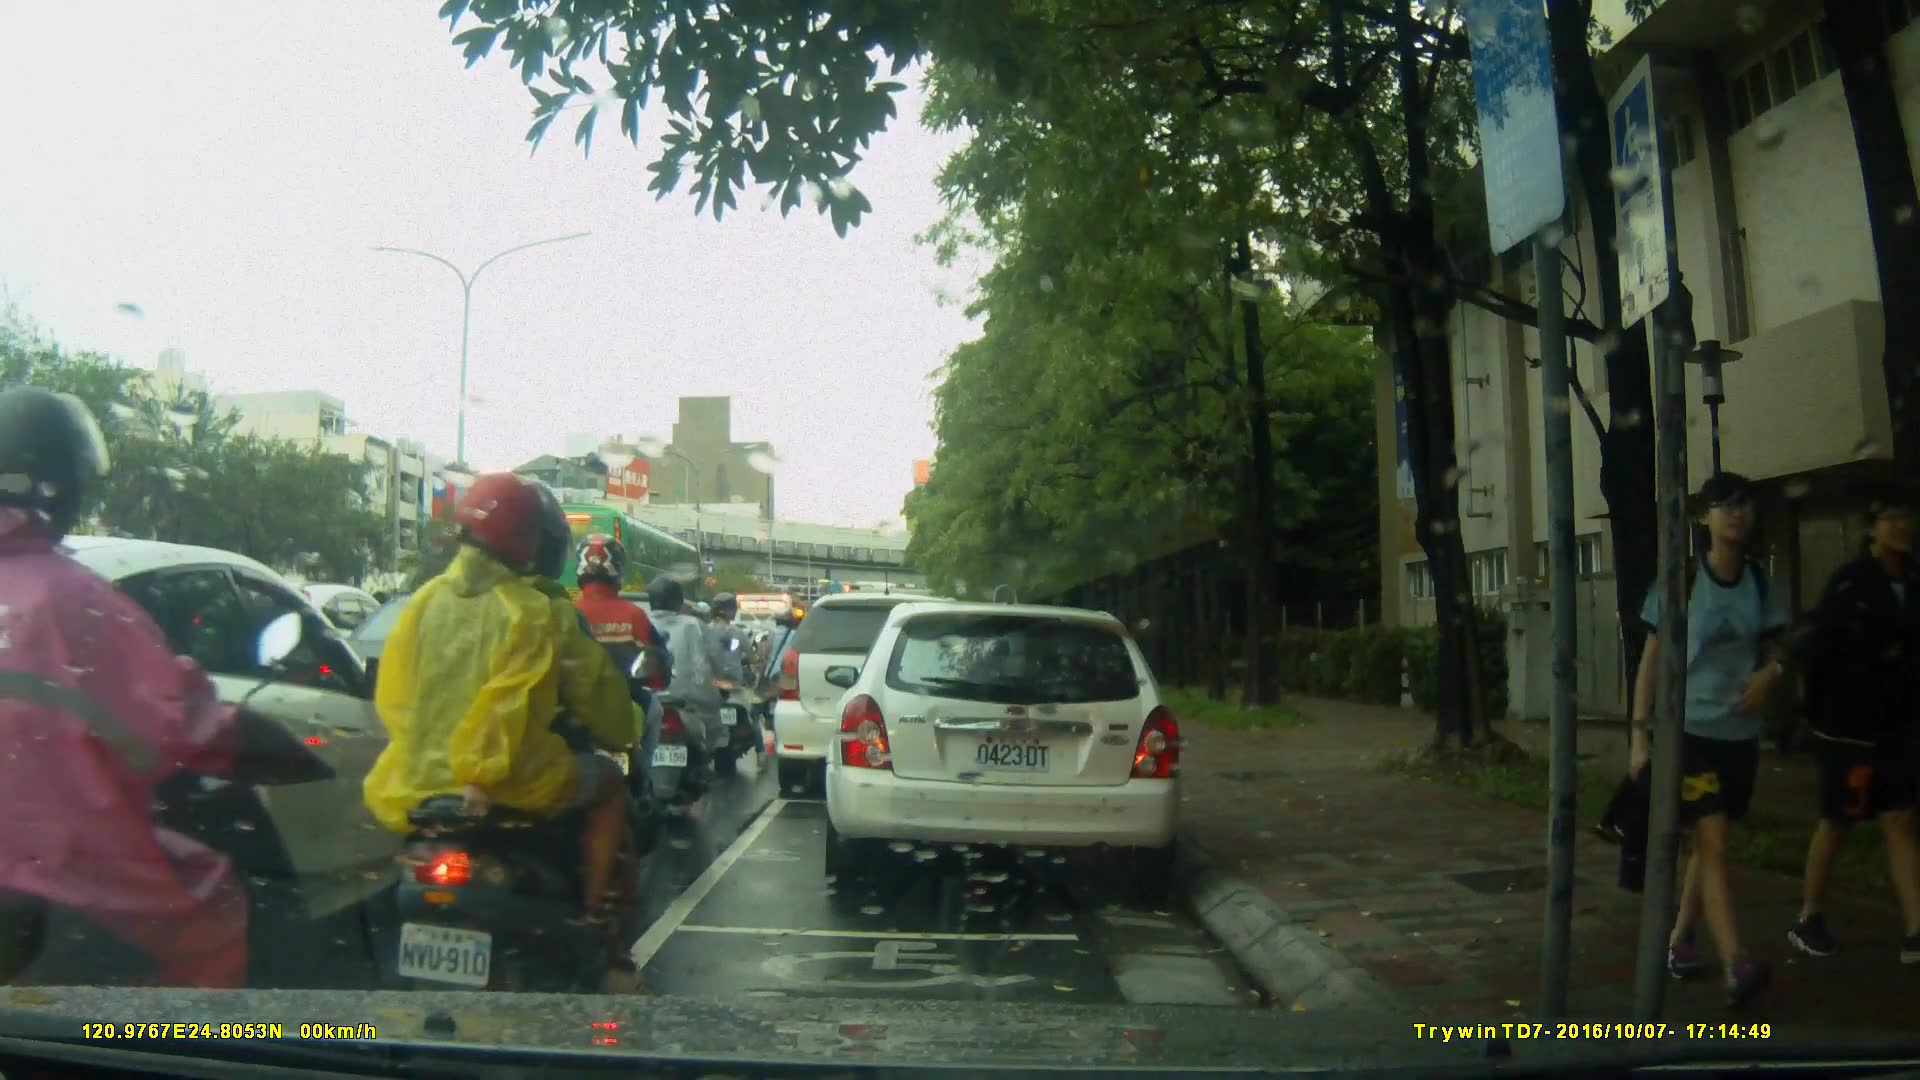pedestrian: (1611, 465, 1814, 1001), (1779, 499, 1920, 965)
rider: (1, 392, 310, 1063), (369, 472, 638, 1024), (543, 534, 683, 859), (623, 574, 731, 808), (698, 587, 767, 768), (757, 607, 814, 737)
vehicle: (2, 533, 461, 988), (831, 592, 1196, 897), (320, 590, 629, 776), (770, 590, 999, 804), (495, 500, 708, 636)
